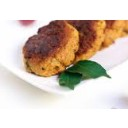cutlet: (22, 20, 76, 77), (75, 18, 105, 59)
